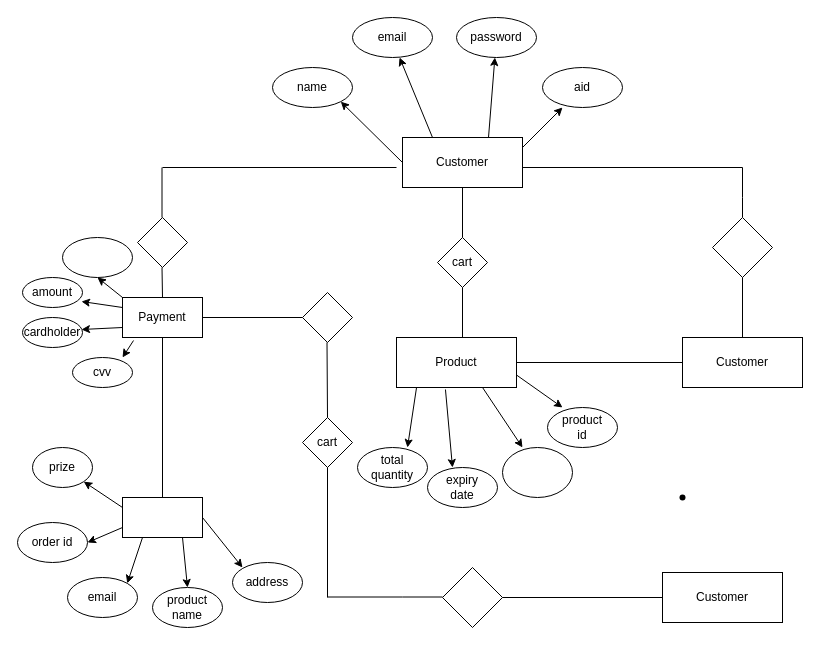
Some shapes in this 820 by 645 pixel diagram are drawn without their labels. Here are the shapes that lost their labels. From the top down, the centre of each, then its label:
At point (97, 257): "payment id".
At point (162, 242): "does".
At point (742, 247): "belongs".
At point (327, 317): "done for".
At point (537, 472): "manufacture date".
At point (162, 517): "Order".
At point (472, 597): "added to".
